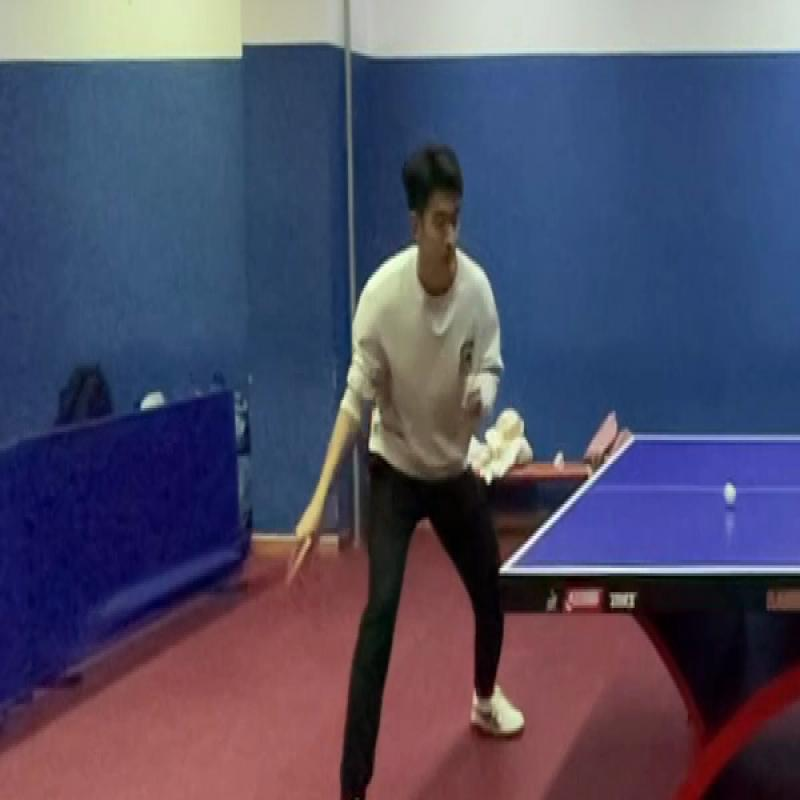bats: (281, 516, 327, 606)
